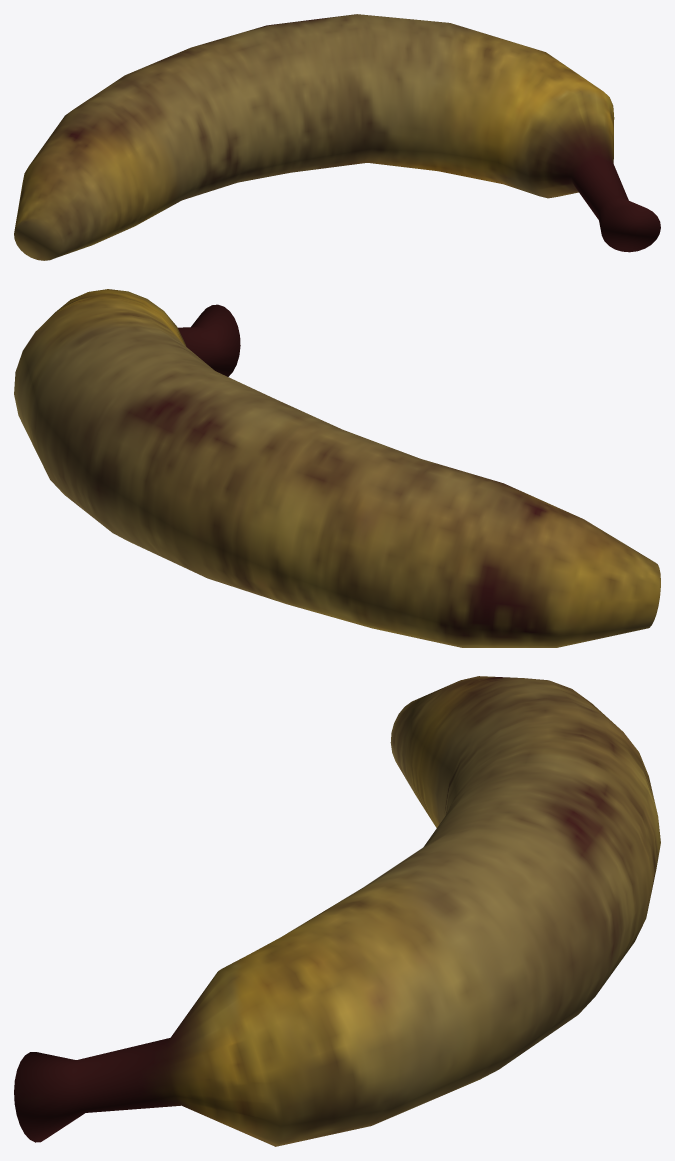
The model's file is SM_Banana_02.fbx.
The picture shows the model from 3 angles, top to bottom: view 1: azimuth 30°, elevation 25°; view 2: azimuth 150°, elevation 25°; view 3: azimuth 270°, elevation 25°; orthographic projection. The views are drawn at different scales.
Visible parts, largest first — view 1: SM_Banana_02_LOD0; view 2: SM_Banana_02_LOD0; view 3: SM_Banana_02_LOD0.
Boxes of the visible parts, <box> form: SM_Banana_02_LOD0: <box>14,14,660,260</box>; SM_Banana_02_LOD0: <box>14,289,660,647</box>; SM_Banana_02_LOD0: <box>14,676,660,1146</box>.
Bounding box in the file's own units: 24.46 × 16.65 × 6.45.
Materials: 1 (1 with a texture image).
